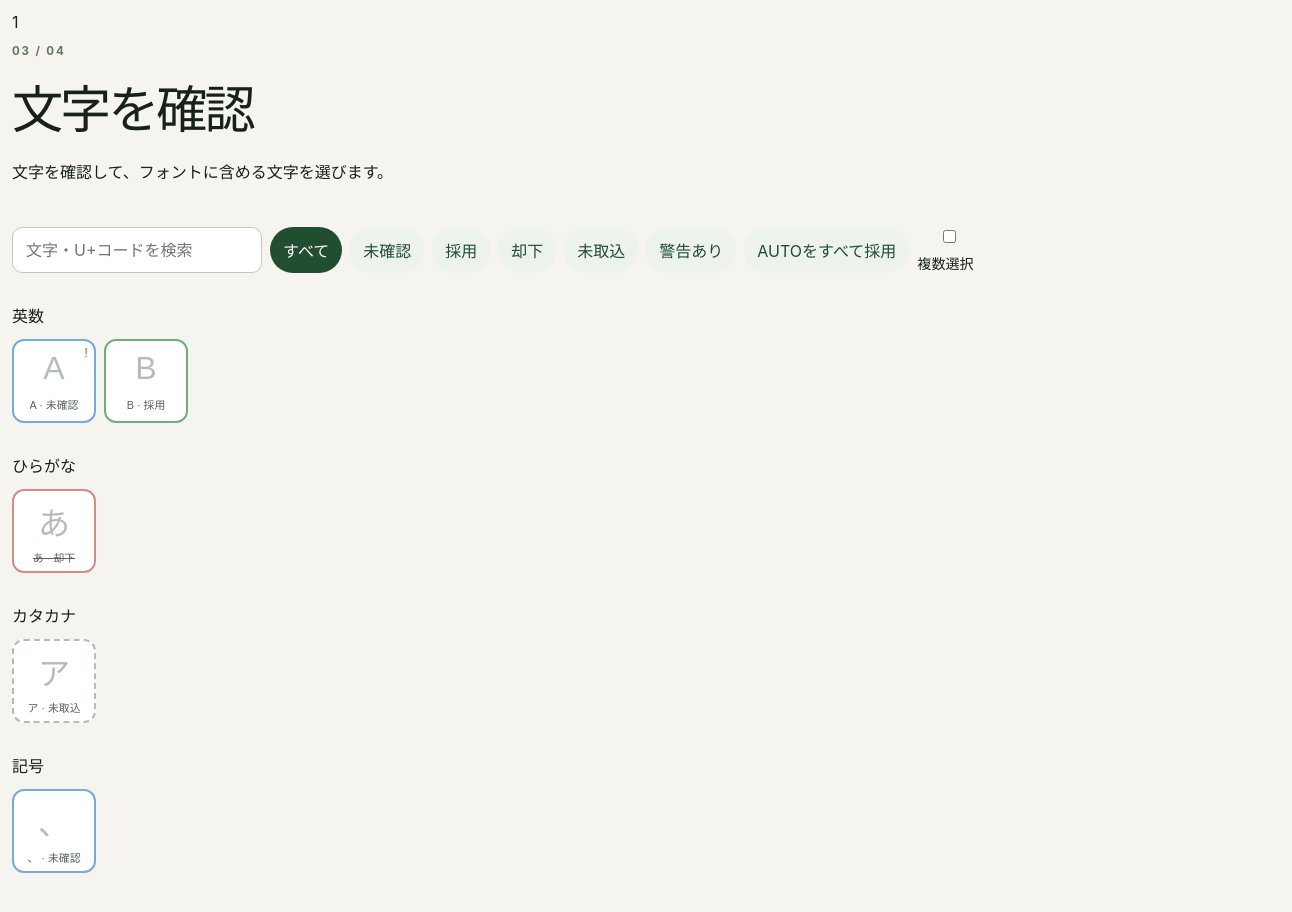
it: batches checkbox selections into one 採用 request and clears them
Expected: the button with aria-label "A 未確認" is shown, [12,339,96,423]
Click the checkbox labelled "複数選択". click: x=949, y=236
box: [921,230,978,243]
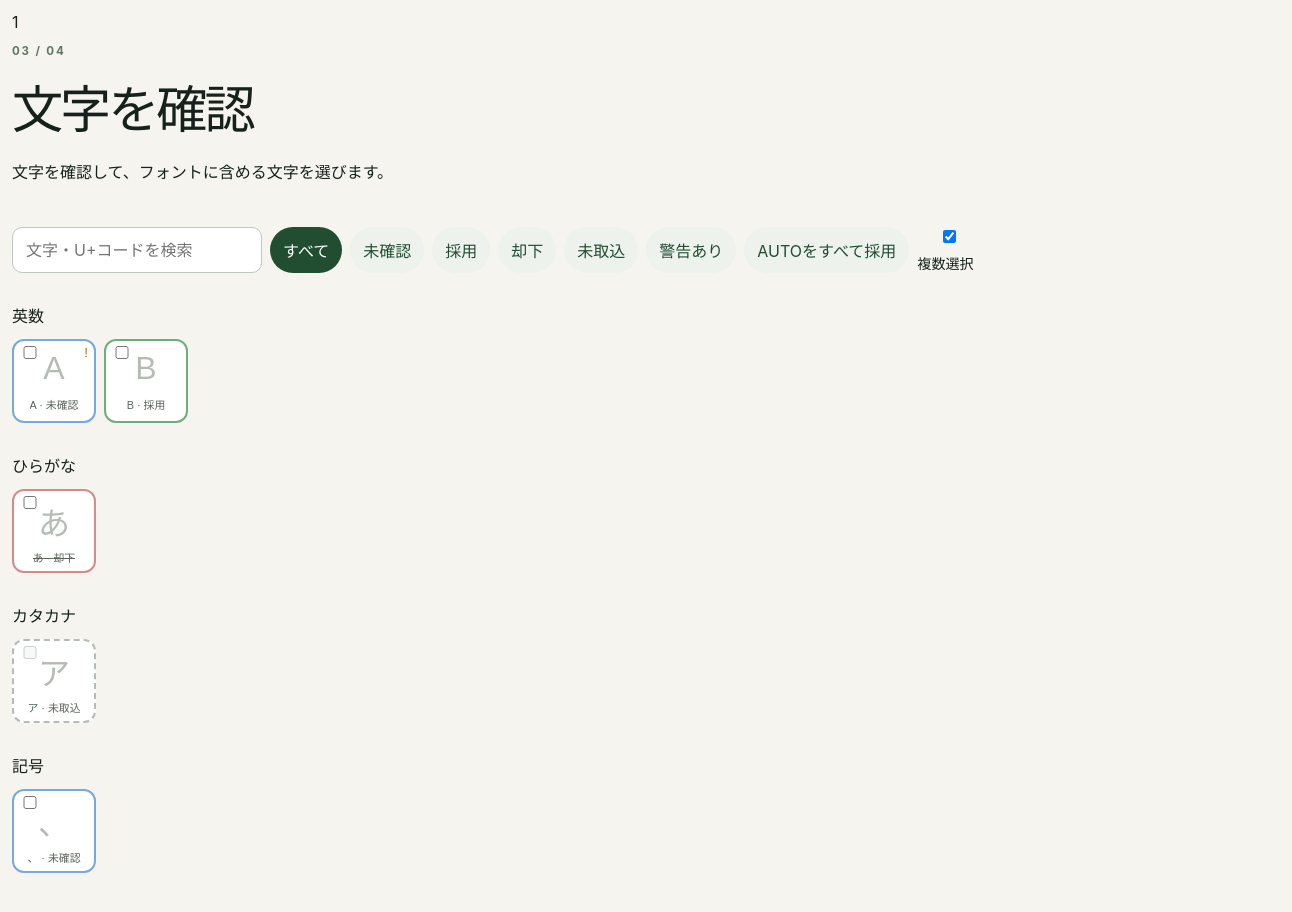
Click the checkbox named "A を選択". click: x=30, y=352
box: [20,346,40,359]
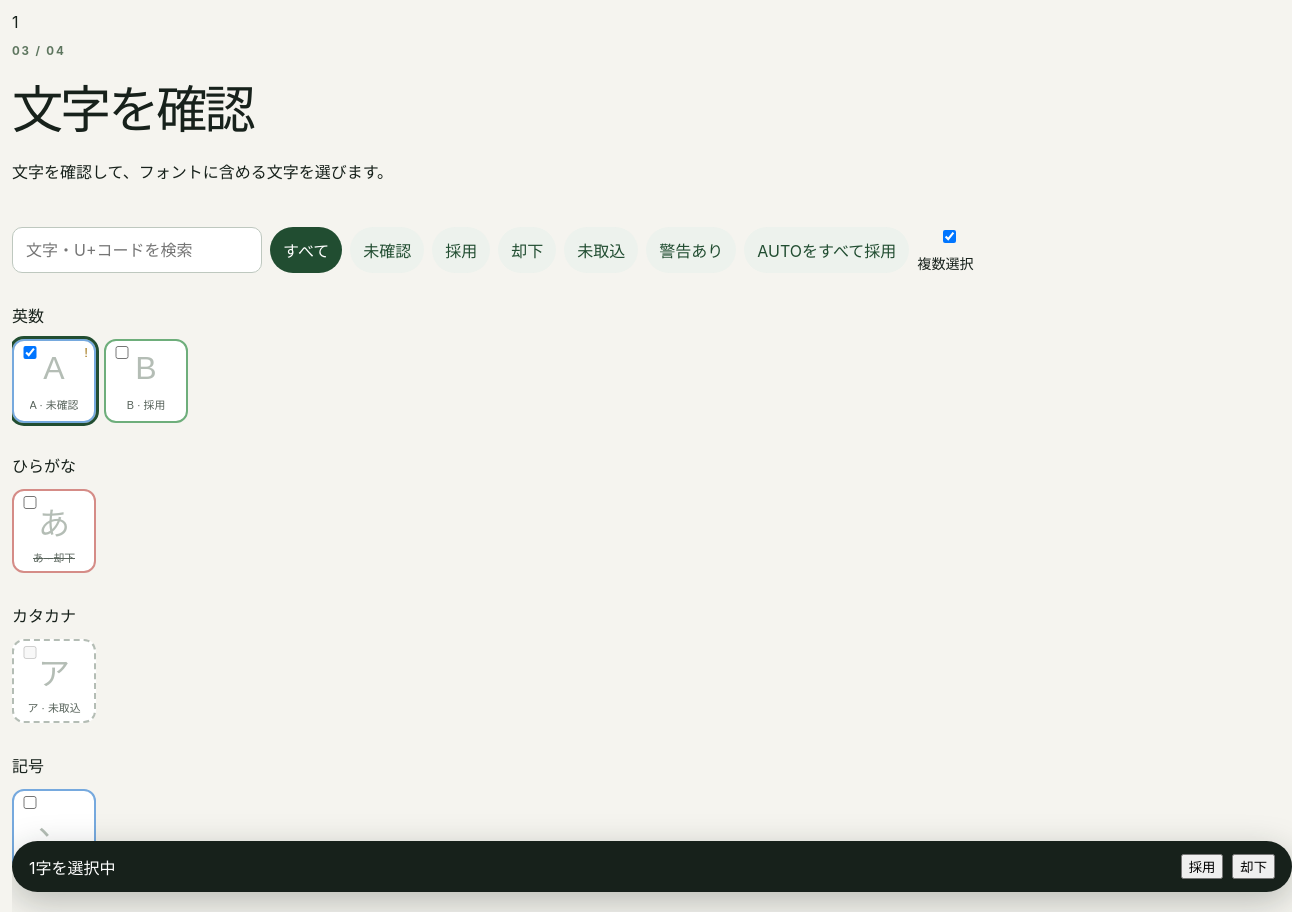
Click the checkbox named "あ を選択". click: x=30, y=502
box: [20,496,40,509]
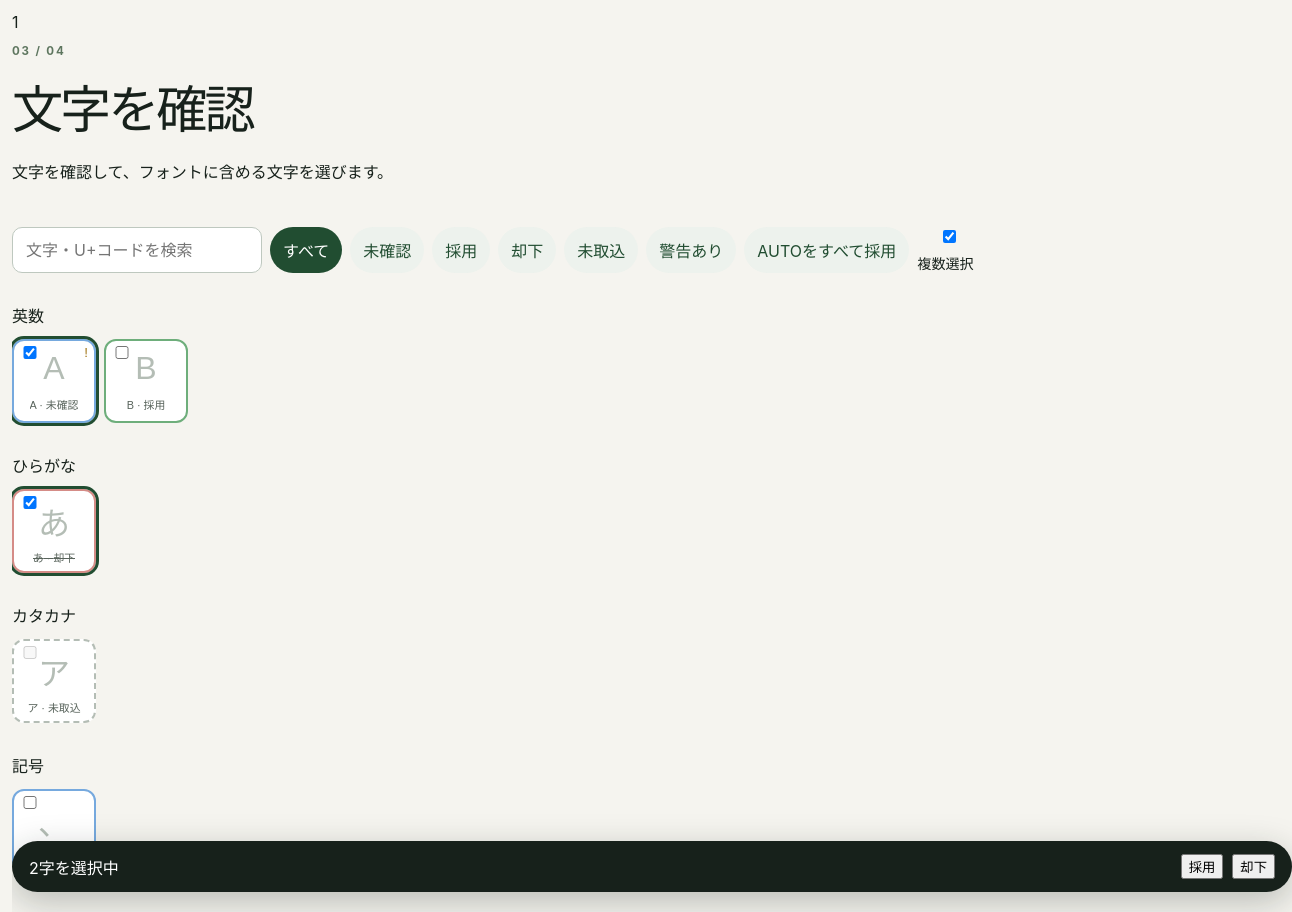
Click the button with aria-label "選択した文字を採用". click: x=1202, y=866
box: [1181,854,1223,879]
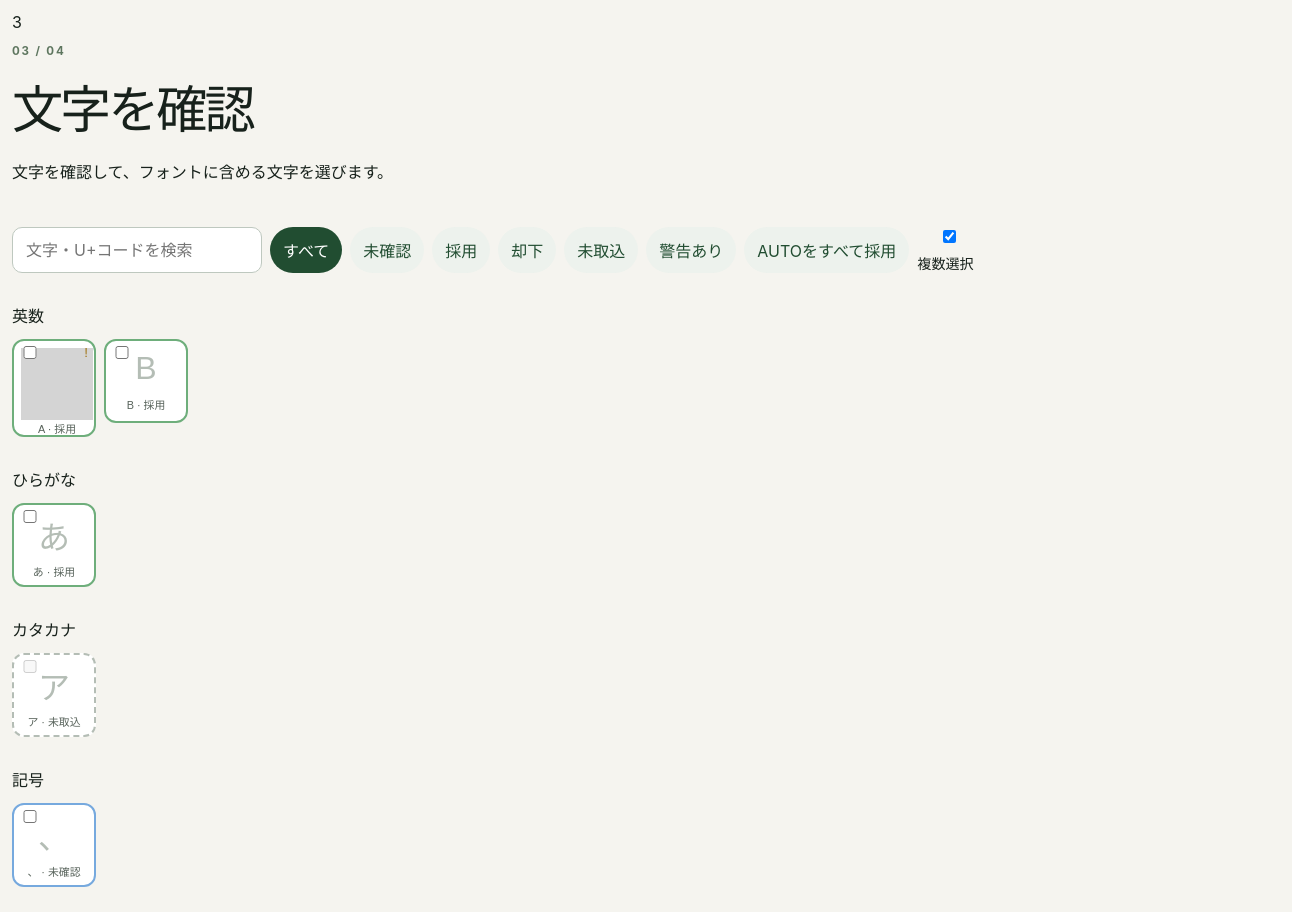
Now the text "2字を選択中" is gone
